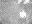person: (19, 13, 27, 18), (24, 1, 29, 4), (19, 1, 22, 4)
